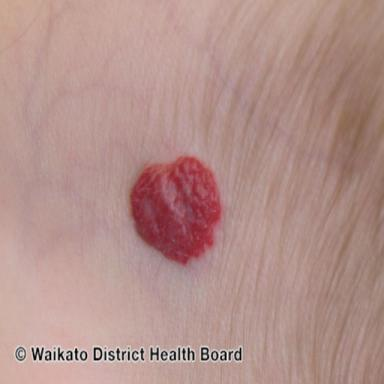Hemangiome: (131, 157, 221, 264)
